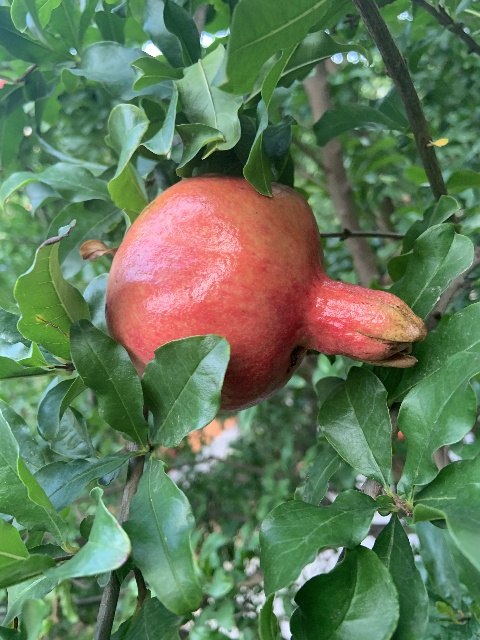ripe: (102, 175, 430, 429)
